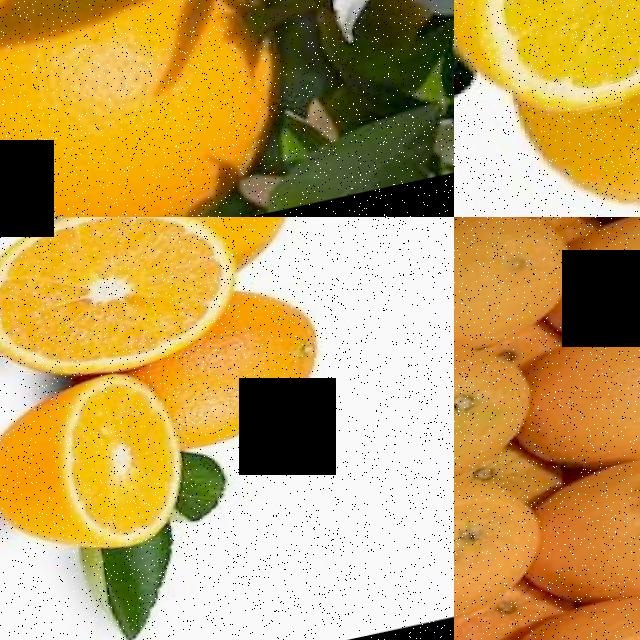orange: (0, 0, 318, 217), (0, 217, 246, 390), (0, 369, 208, 572), (158, 313, 345, 460), (500, 34, 640, 217), (454, 0, 640, 131), (511, 311, 640, 482), (530, 443, 640, 616), (454, 461, 562, 636), (454, 217, 589, 350), (454, 334, 551, 495), (563, 217, 640, 338), (490, 579, 640, 640)
